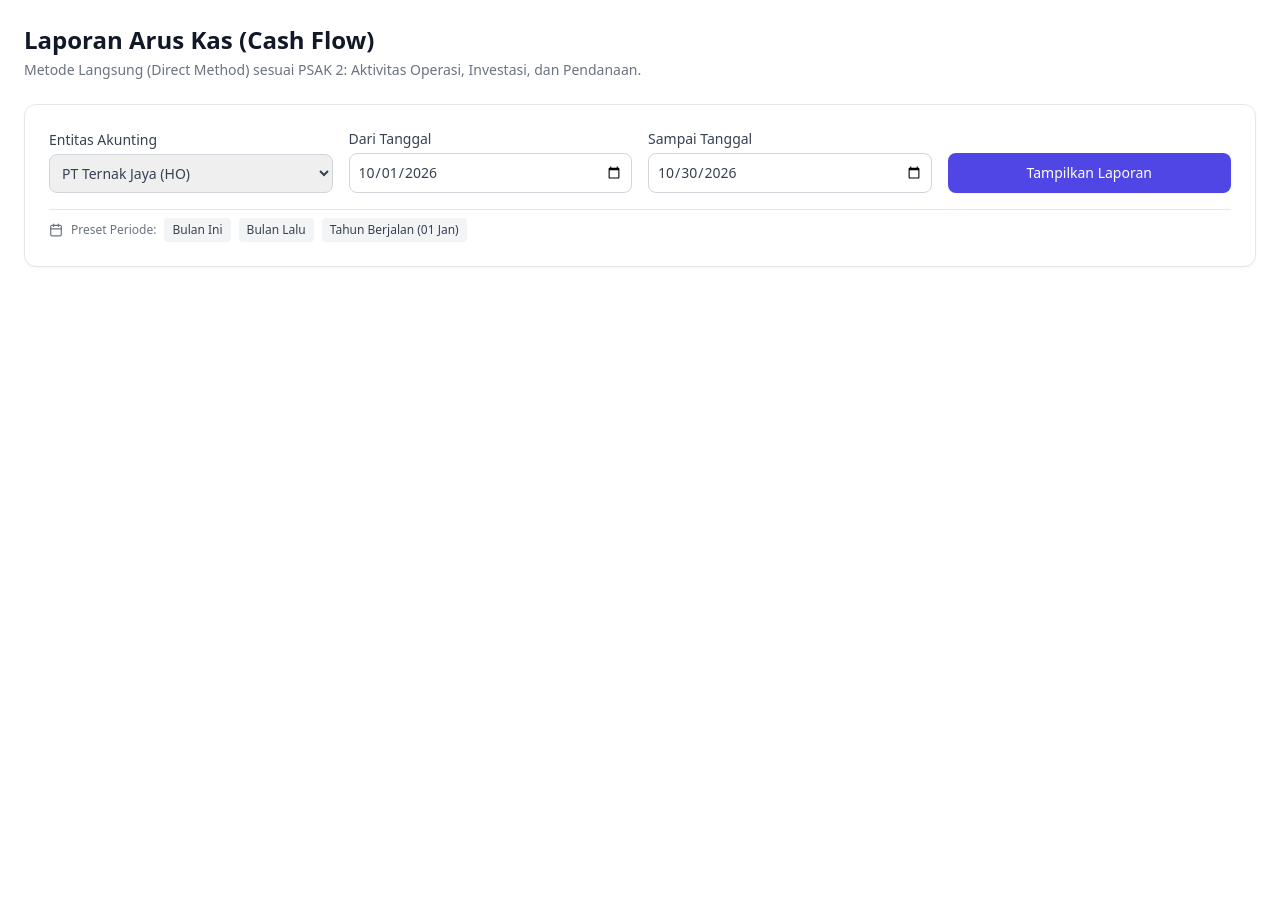
Scenario: CashFlowPage › fetches and displays all PSAK 2 cash flow sections and status badge
Click the button "Tampilkan Laporan": point(1089, 173) [948, 153, 1231, 193]
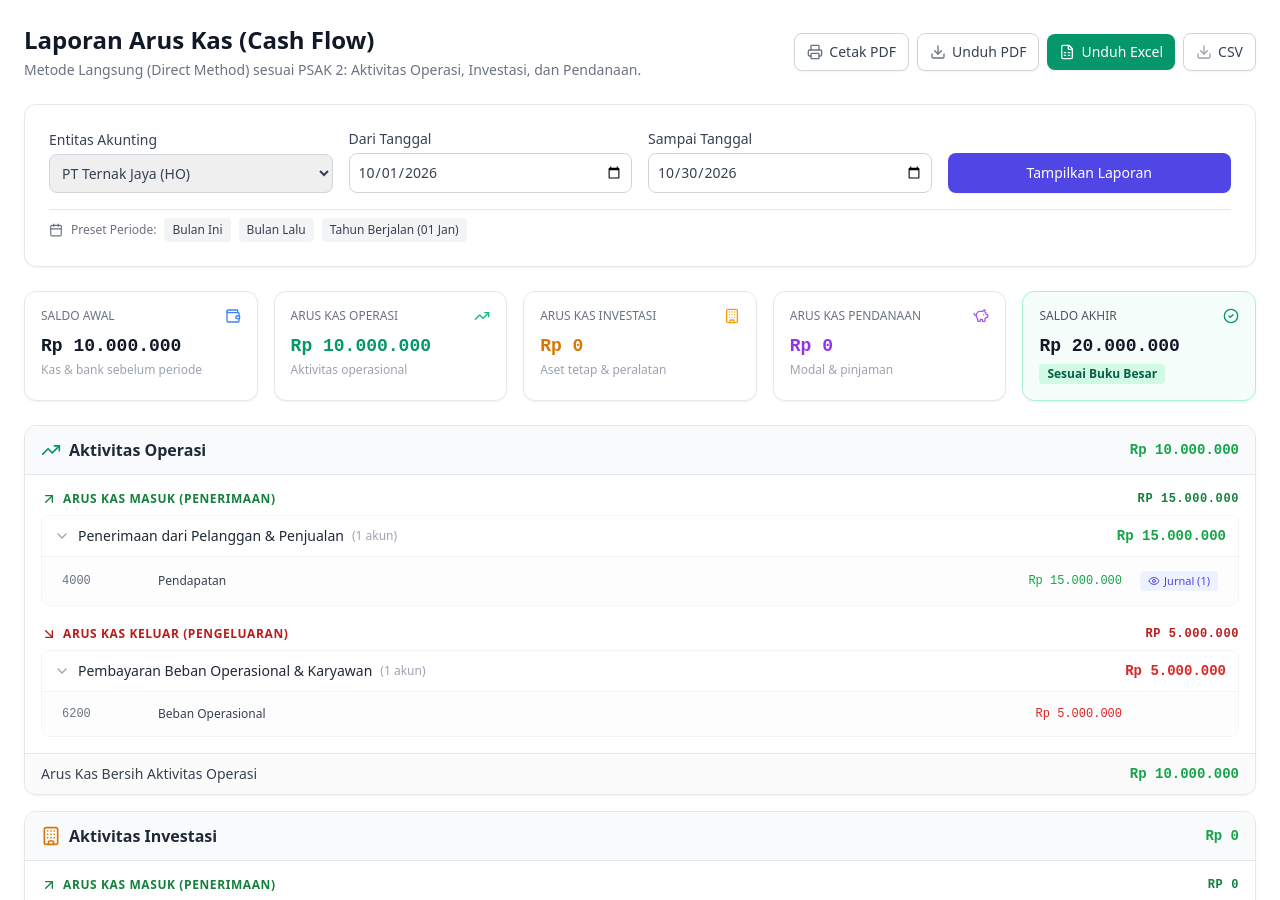
expect the heading "Aktivitas Operasi" is shown: met, box [69, 438, 206, 462]
expect the heading "Aktivitas Investasi" is shown: met, box [69, 824, 217, 848]
expect the text "Sesuai Buku Besar" is shown: met, box [1039, 364, 1165, 384]
